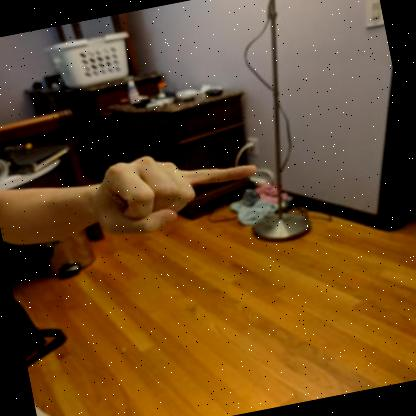J: (89, 155, 257, 235)
